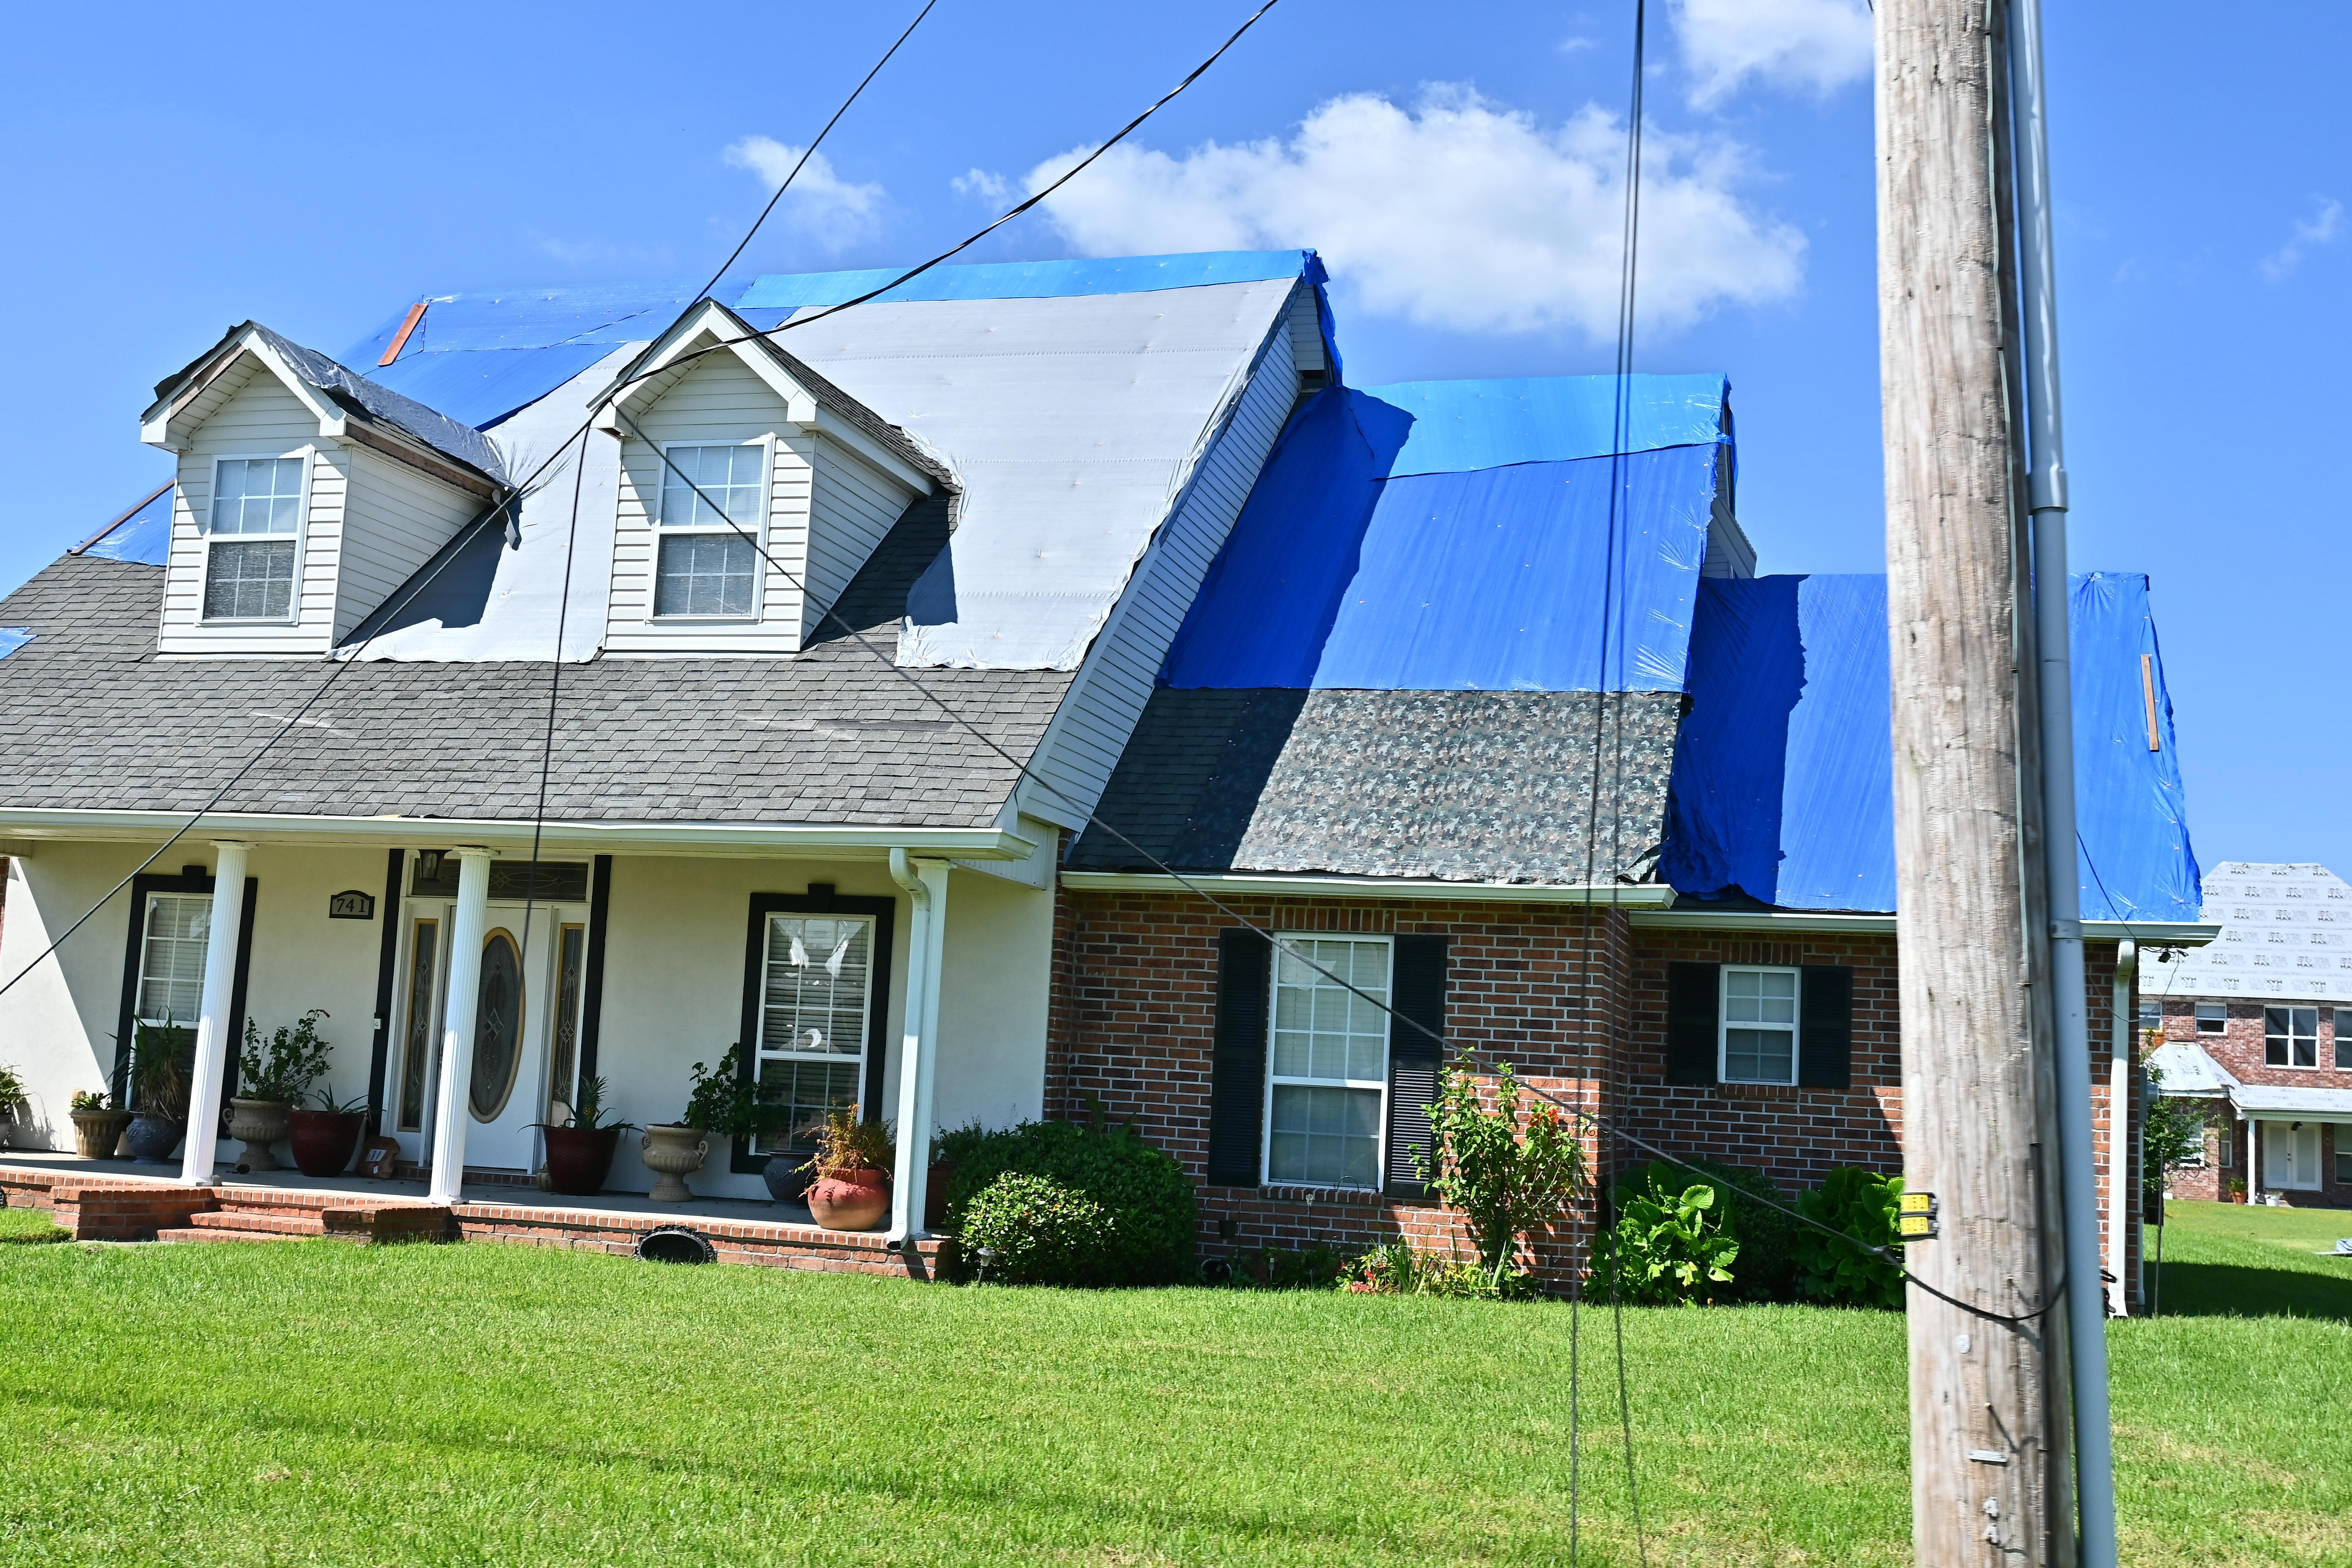minor: (11, 147, 2261, 1325)
